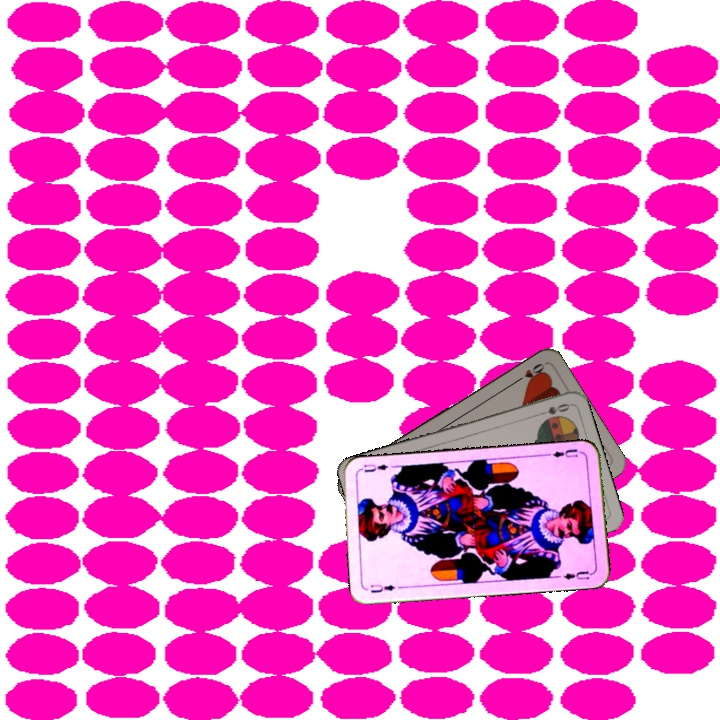EU: (548, 445, 585, 460), (367, 580, 398, 596)
HO: (511, 359, 547, 386)
SO: (532, 399, 572, 419)
